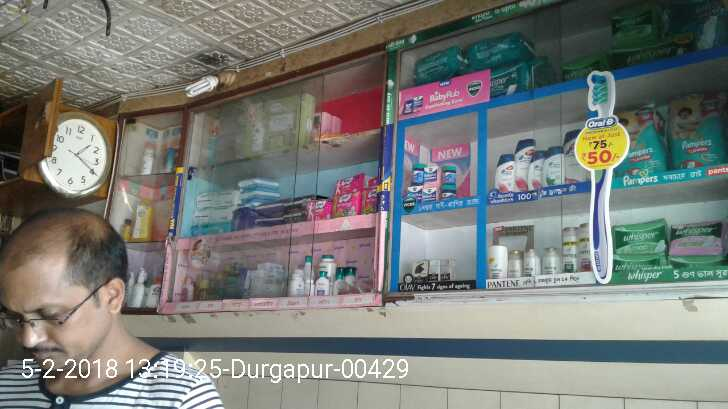vicks: (404, 157, 457, 207)
